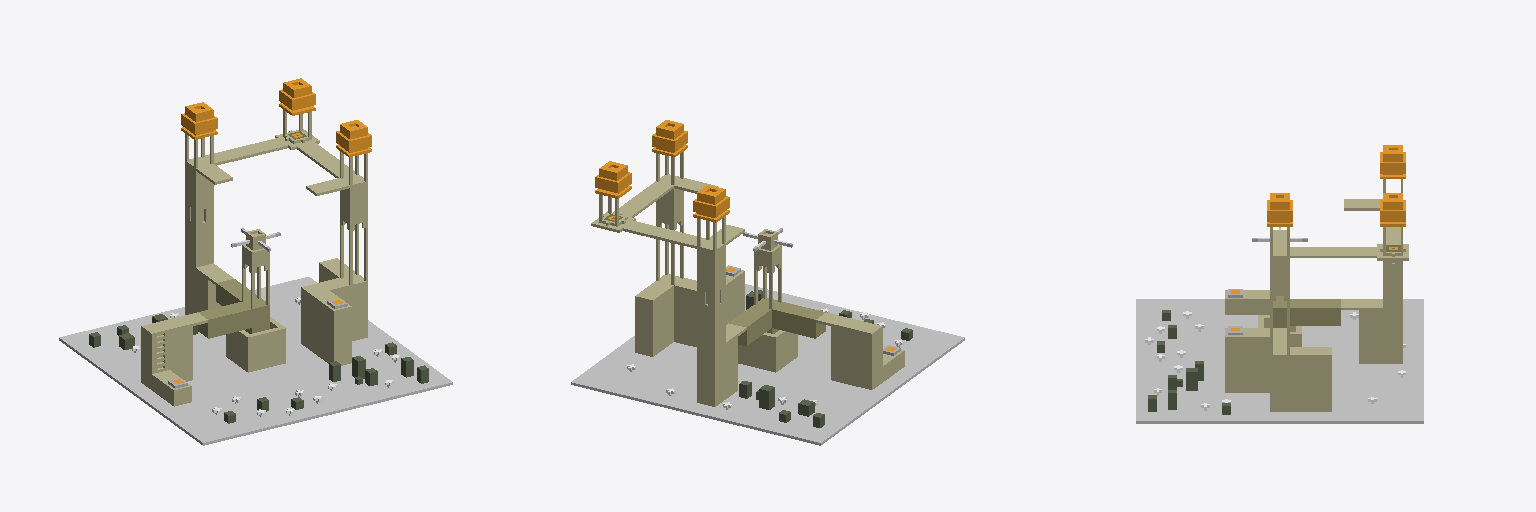
3 renders of one model, left to right at view 1: azimuth 30°, elevation 25°; view 2: azimuth 150°, elevation 25°; view 3: azimuth 270°, elevation 25°, orthographic.
Parts seen in each view (by area): view 1: object 1; view 2: object 1; view 3: object 1.
Part boxes in pixels (left/top/right/bottom): object 1: left=59, top=78, right=452, bottom=445; object 1: left=571, top=120, right=964, bottom=445; object 1: left=1136, top=145, right=1423, bottom=423.
Bounding box in the file's own units: 97 × 79 × 97.
Materials: 1 (1 with a texture image).